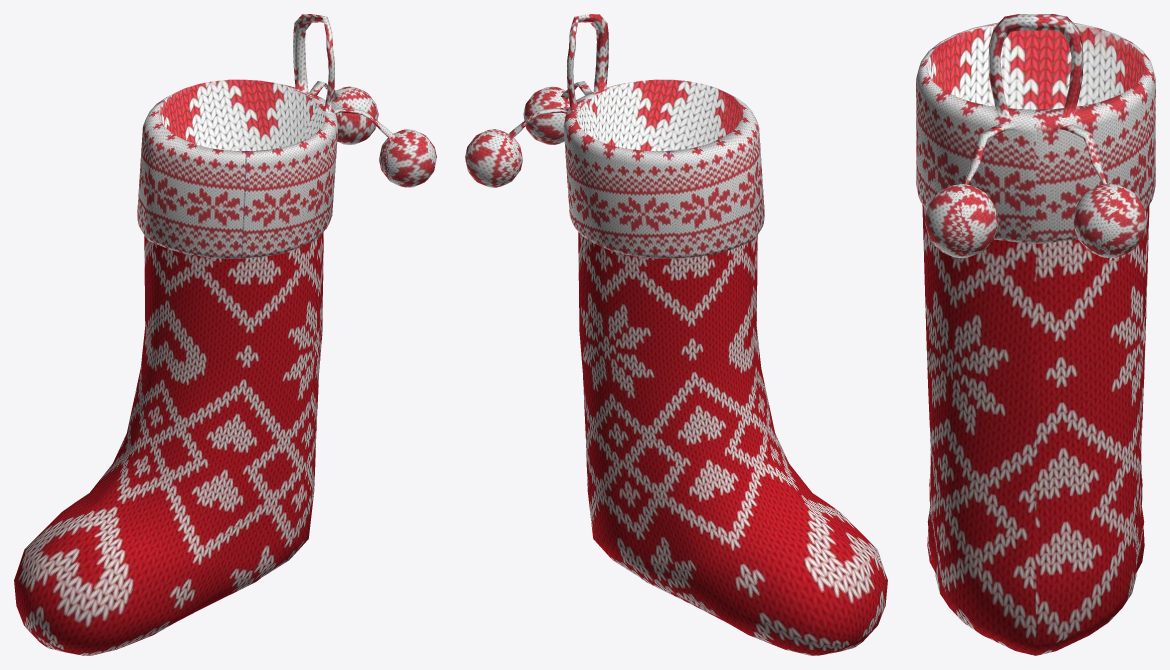
3 views of the same model, side by side, from view 1: azimuth 30°, elevation 25°; view 2: azimuth 150°, elevation 25°; view 3: azimuth 270°, elevation 25° (orthographic). The views are drawn at different scales.
Visible parts, largest first — view 1: socket.final_M_socket_0; view 2: socket.final_M_socket_0; view 3: socket.final_M_socket_0.
Part boxes in pixels (x1,y1,x2,y2): socket.final_M_socket_0: (14, 14, 436, 655); socket.final_M_socket_0: (465, 14, 887, 655); socket.final_M_socket_0: (916, 14, 1155, 655).
Bounding box in the file's own units: 1.11 × 1.6 × 0.479.
Materials: 1 (1 with a texture image).
